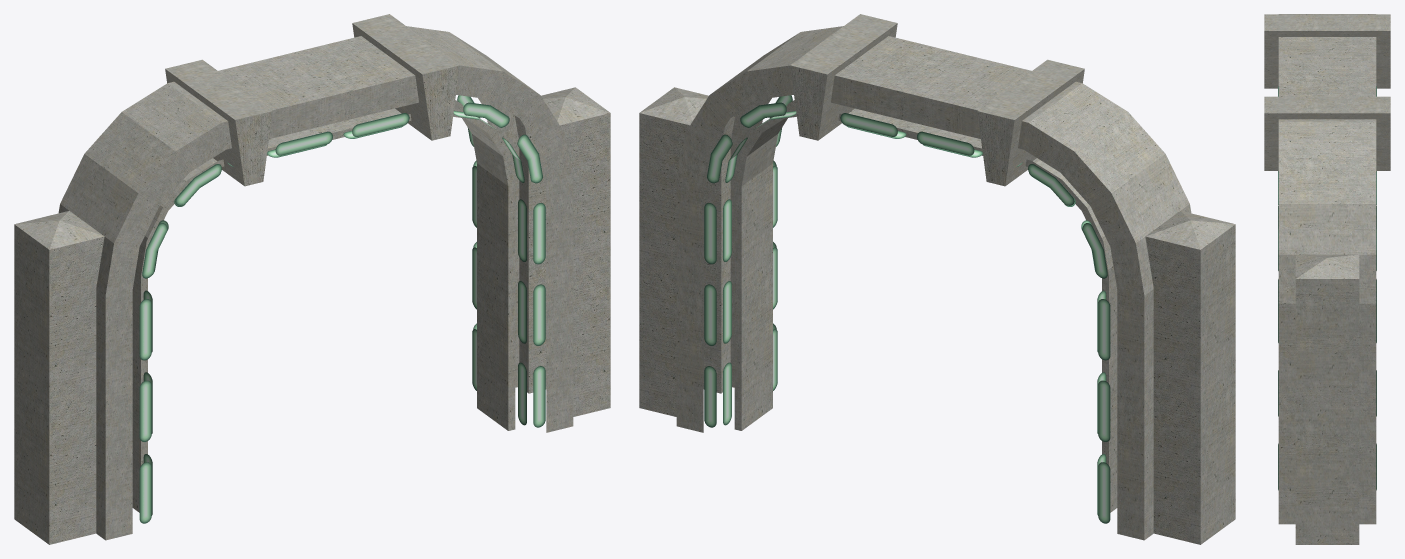
Rendered from thm_corl_imprv_arch_lg_s02_l0.fbx.
3 views of the same model, side by side, from view 1: azimuth 30°, elevation 25°; view 2: azimuth 150°, elevation 25°; view 3: azimuth 270°, elevation 25° (orthographic). The views are drawn at different scales.
Parts seen in each view (by area): view 1: mesh_node; view 2: mesh_node; view 3: mesh_node.
Boxes of the visible parts, x1,y1,x2,y2 form: mesh_node: (14, 14, 610, 544); mesh_node: (639, 14, 1235, 544); mesh_node: (1264, 14, 1390, 544).
Bounding box in the file's own units: 12 × 8.1 × 2.6.
Materials: 2 (2 with a texture image).
